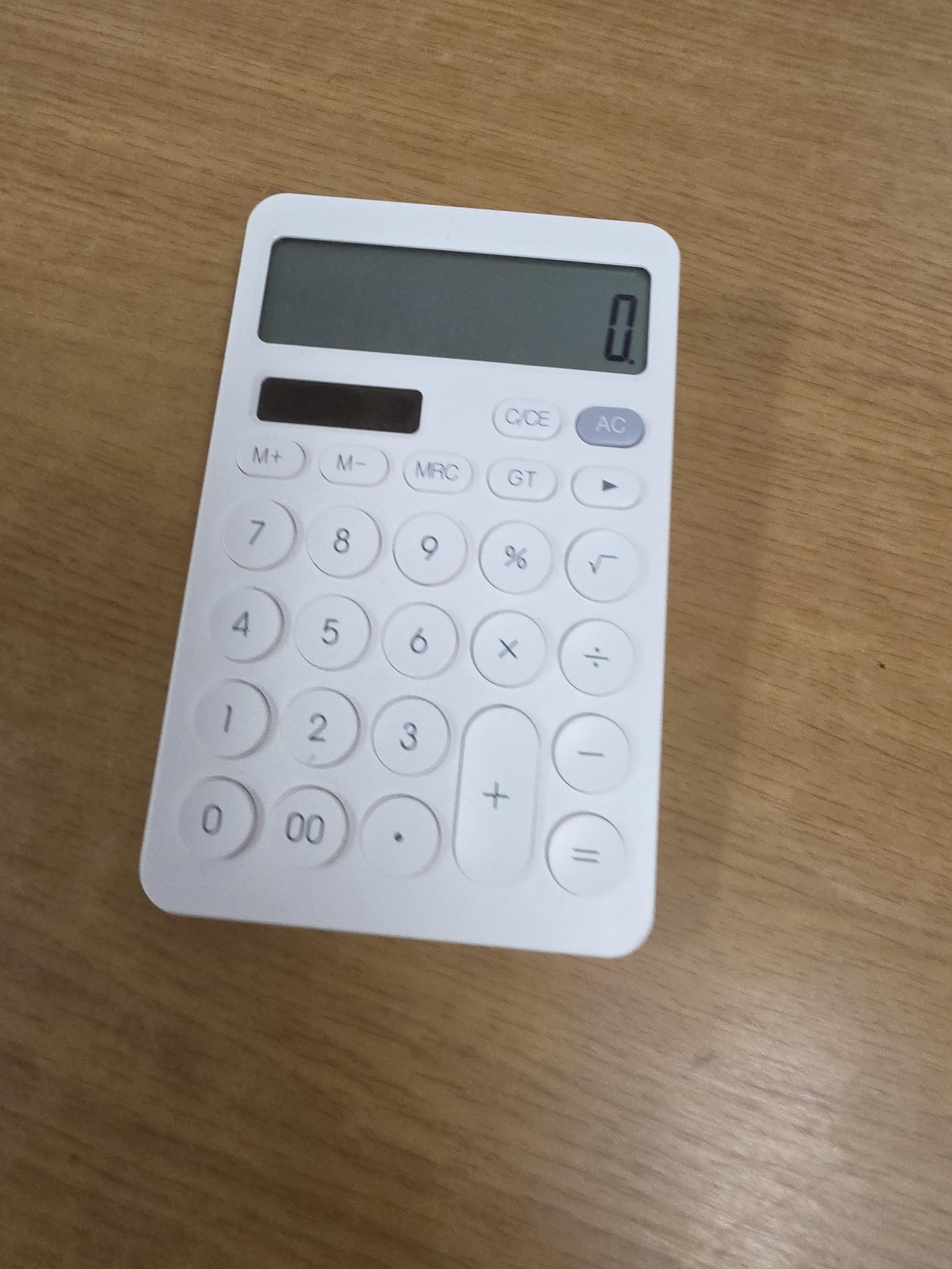calculator: (138, 192, 682, 960)
